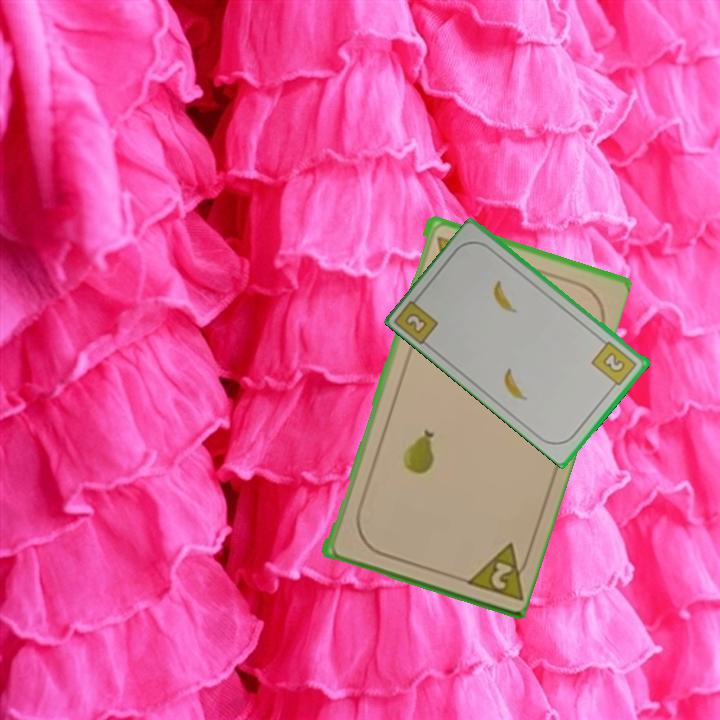2b: (588, 337, 640, 392), (401, 309, 430, 337)
2p: (459, 538, 534, 603)
